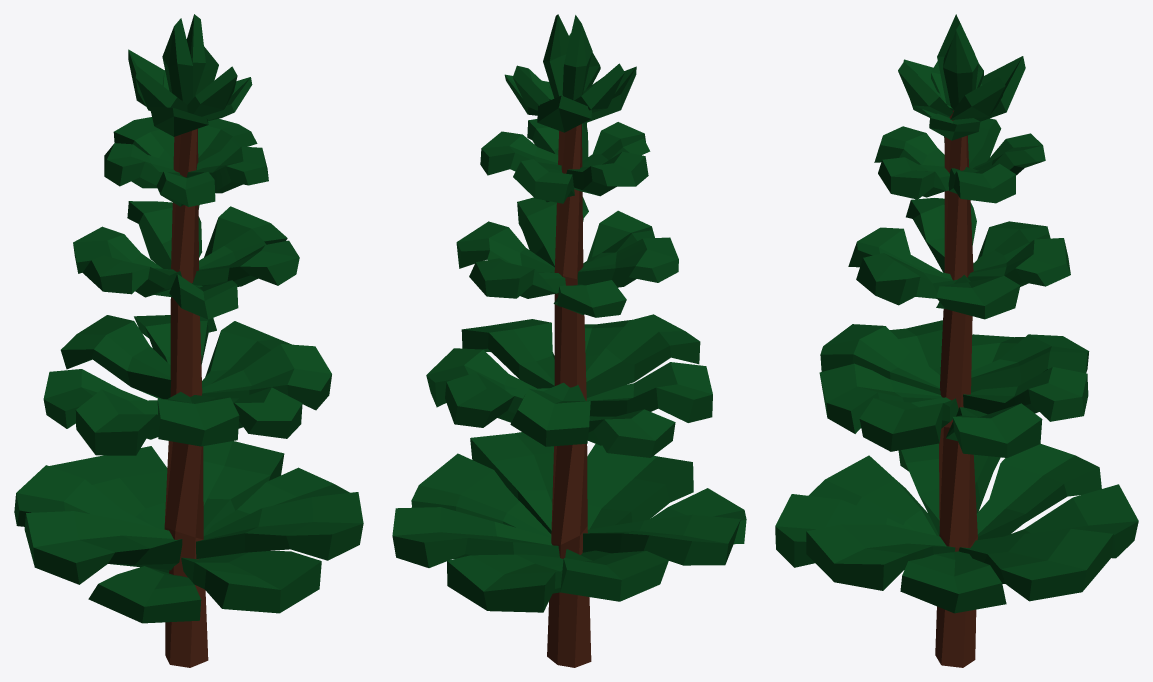
File: Tree_6_High.fbx
3 renders of one model, left to right at view 1: azimuth 30°, elevation 25°; view 2: azimuth 150°, elevation 25°; view 3: azimuth 270°, elevation 25°, orthographic.
Parts seen in each view (by area): view 1: Tree_6_High; view 2: Tree_6_High; view 3: Tree_6_High.
Part boxes in pixels (x1=…): Tree_6_High: x1=14, y1=14, x2=363, y2=667; Tree_6_High: x1=392, y1=14, x2=746, y2=667; Tree_6_High: x1=775, y1=14, x2=1138, y2=667.
Size of the model in its own units: 129 by 260 by 133.
